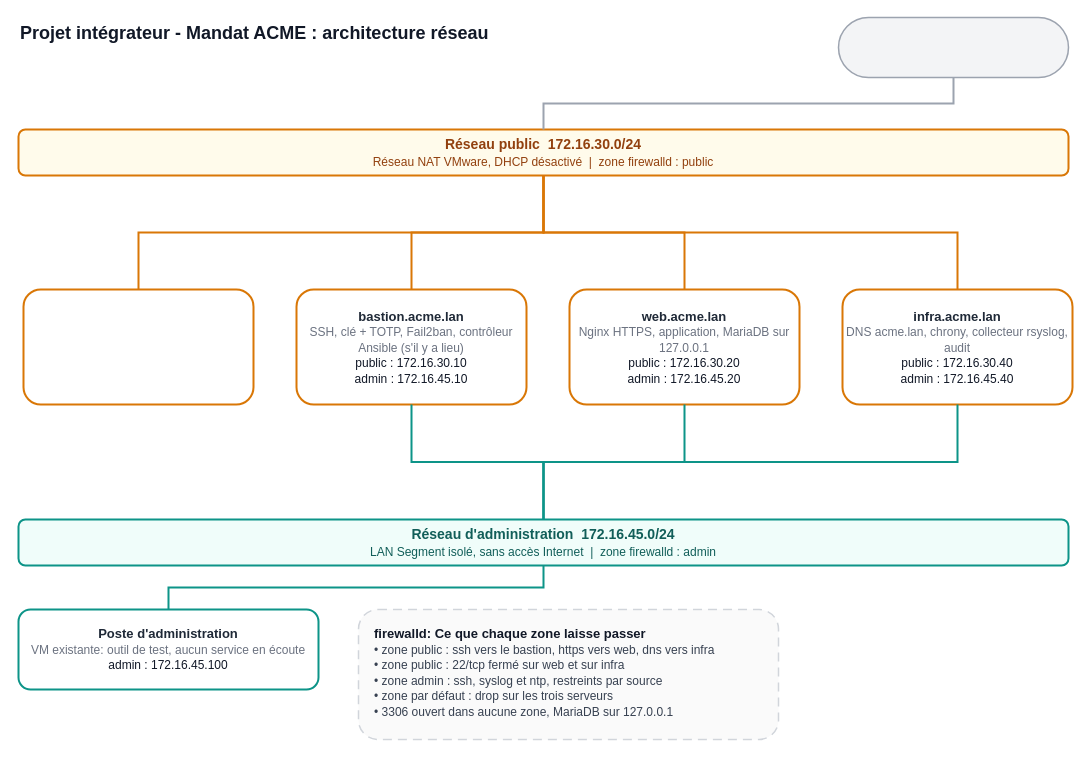
Some shapes in this 1090 by 758 pixel diagram are drawn without their labels. Each missing label, with the centre of its shape:
"Internet" goes at (953,47).
"Poste client VM Linux existante (ex: Kali) public : 172.16.30.200" goes at (138,346).
